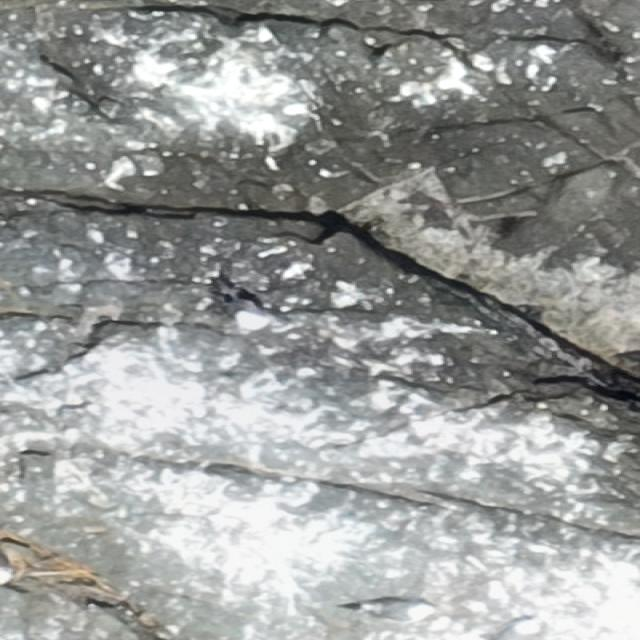umineko: (354, 597, 438, 623), (227, 291, 272, 330)
